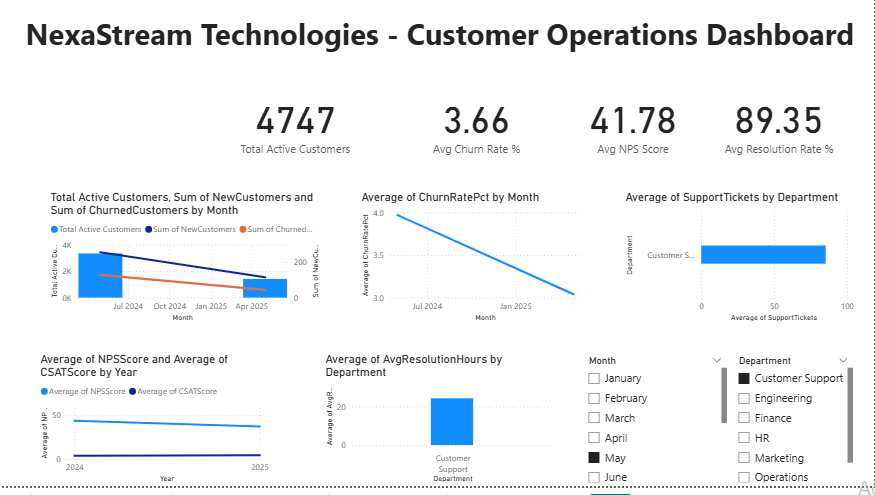

What the dashboard file says about the page in this screenshot:
{"tool":"powerbi","page":{"name":"Customer Operations","canvas":[1280,720],"ordinal":2},"visuals":[{"type":"card","fields":{"Values":["Customer_Data.Total Active Customers"]},"box":[314.1,122.6,235.2,131],"z":0},{"type":"card","fields":{"Values":["Customer_Data.Avg Churn Rate %"]},"box":[587.9,122.6,218.4,131],"z":1},{"type":"card","fields":{"Values":["Customer_Data.Avg NPS Score"]},"box":[829.8,122.6,193.2,131],"z":2},{"type":"card","fields":{"Values":["Customer_Data.Avg Resolution Rate %"]},"box":[1038.1,122.6,204.9,131],"z":3},{"type":"lineClusteredColumnComboChart","fields":{"Y":["Customer_Data.Total Active Customers"],"Y2":["Sum(Customer_Data.NewCustomers)","Sum(Customer_Data.ChurnedCustomers)"],"Category":["Customer_Data.Month"]},"box":[68.9,287.2,403.1,196.5],"z":4},{"type":"lineChart","fields":{"Y":["Avg(Customer_Data.ChurnRatePct)"],"Category":["Customer_Data.Month"]},"box":[524.1,287.2,344.4,196.5],"z":5},{"type":"clusteredBarChart","fields":{"Category":["Customer_Data.Department"],"Y":["Avg(Customer_Data.SupportTickets)"]},"box":[910.4,287.2,344.4,196.5],"z":6},{"type":"lineChart","fields":{"Category":["Customer_Data.Month.Variation.Date Hierarchy.Year","Customer_Data.Month.Variation.Date Hierarchy.Quarter","Customer_Data.Month.Variation.Date Hierarchy.Month","Customer_Data.Month.Variation.Date Hierarchy.Day"],"Y":["Avg(Customer_Data.NPSScore)","Avg(Customer_Data.CSATScore)"]},"box":[54.1,523.9,343.9,196.1],"z":7},{"type":"clusteredColumnChart","fields":{"Category":["Customer_Data.Department"],"Y":["Avg(Customer_Data.AvgResolutionHours)"]},"box":[471.2,523.9,343.9,196.1],"z":8},{"type":"slicer","fields":{"Values":["Customer_Data.Month.Variation.Date Hierarchy.Month"]},"box":[848.8,523.9,219.5,196.1],"z":9},{"type":"textbox","box":[31.9,23.5,1222.9,99.1],"z":10},{"type":"slicer","fields":{"Values":["Customer_Data.Department"]},"box":[1069,524,185,196],"z":11}]}

Visuals, with their boxes in screenshot pixels (x1, y1, x2, y2), scaled from the page's 1280x720 canvas onto the 875x495 screenshot:
card - Customer_Data.Total Active Customers: <box>215,84,375,174</box>
card - Customer_Data.Avg Churn Rate %: <box>402,84,551,174</box>
card - Customer_Data.Avg NPS Score: <box>567,84,699,174</box>
card - Customer_Data.Avg Resolution Rate %: <box>710,84,850,174</box>
lineClusteredColumnComboChart - Customer_Data.Total Active Customers x Sum(Customer_Data.NewCustomers): <box>47,197,323,333</box>
lineChart - Avg(Customer_Data.ChurnRatePct) x Customer_Data.Month: <box>358,197,594,333</box>
clusteredBarChart - Customer_Data.Department x Avg(Customer_Data.SupportTickets): <box>622,197,858,333</box>
lineChart - Customer_Data.Month.Variation.Date Hierarchy.Year x Customer_Data.Month.Variation.Date Hierarchy.Quarter: <box>37,360,272,494</box>
clusteredColumnChart - Customer_Data.Department x Avg(Customer_Data.AvgResolutionHours): <box>322,360,557,494</box>
slicer - Customer_Data.Month.Variation.Date Hierarchy.Month: <box>580,360,730,494</box>
textbox: <box>22,16,858,84</box>
slicer - Customer_Data.Department: <box>731,360,857,494</box>
